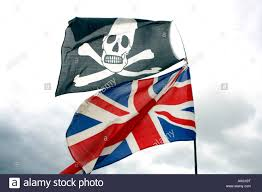Jolly Roger Flag: (59, 14, 189, 96)
